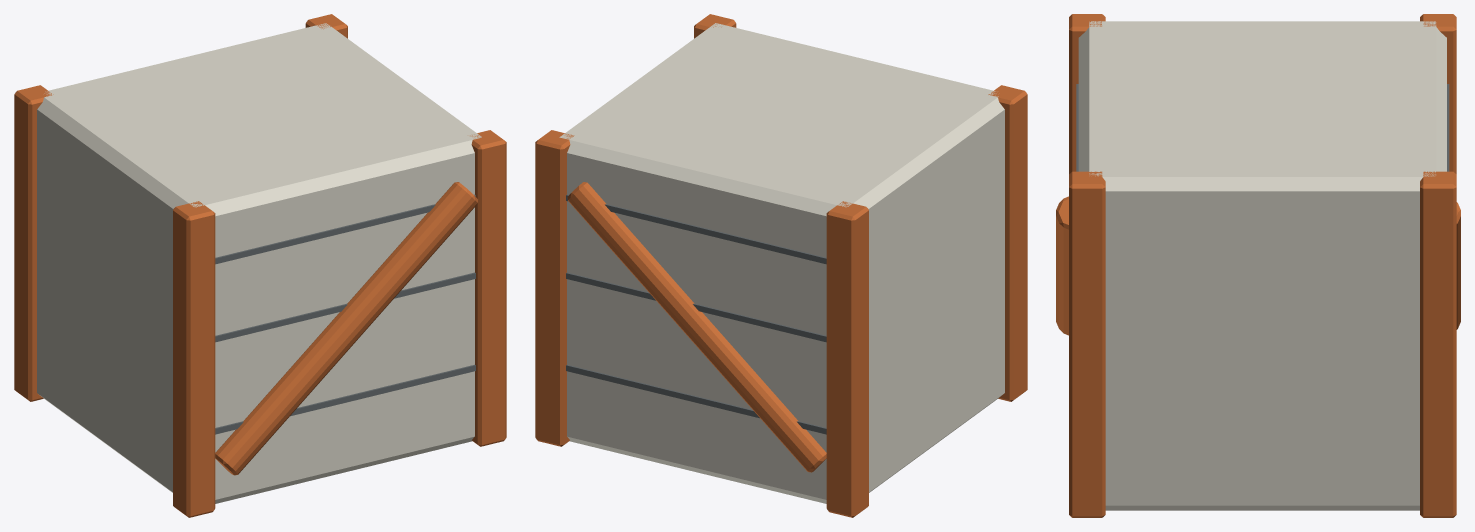
Rendered from environment_wood_crate_model.glb.
The picture shows the model from 3 angles, left to right: view 1: azimuth 30°, elevation 25°; view 2: azimuth 150°, elevation 25°; view 3: azimuth 270°, elevation 25°; orthographic projection. The views are drawn at different scales.
Visible parts, largest first — view 1: BH_WoodCrate_RenderMesh; view 2: BH_WoodCrate_RenderMesh; view 3: BH_WoodCrate_RenderMesh.
Boxes of the visible parts, bbox=[...] form: BH_WoodCrate_RenderMesh: bbox=[14, 14, 506, 517]; BH_WoodCrate_RenderMesh: bbox=[535, 14, 1027, 517]; BH_WoodCrate_RenderMesh: bbox=[1056, 14, 1460, 517].
Size of what is drawn, in the model's own units: 0.945 by 0.85 by 0.9339.
